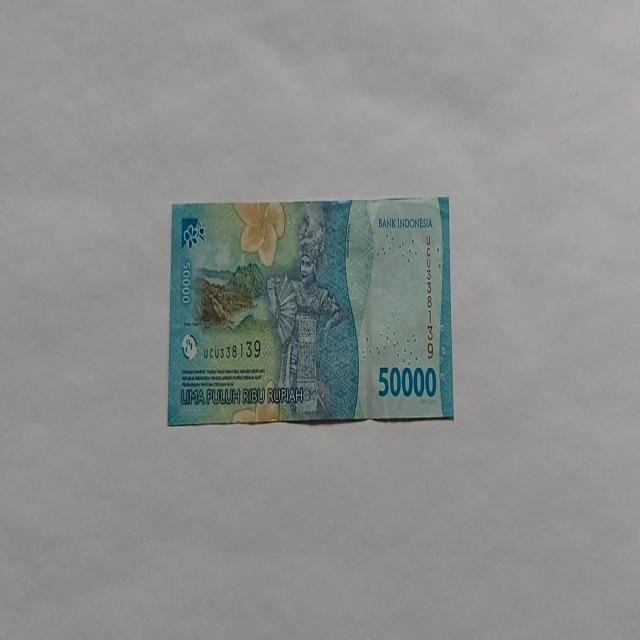lima puluh ribu rupiah: (166, 196, 454, 427)
